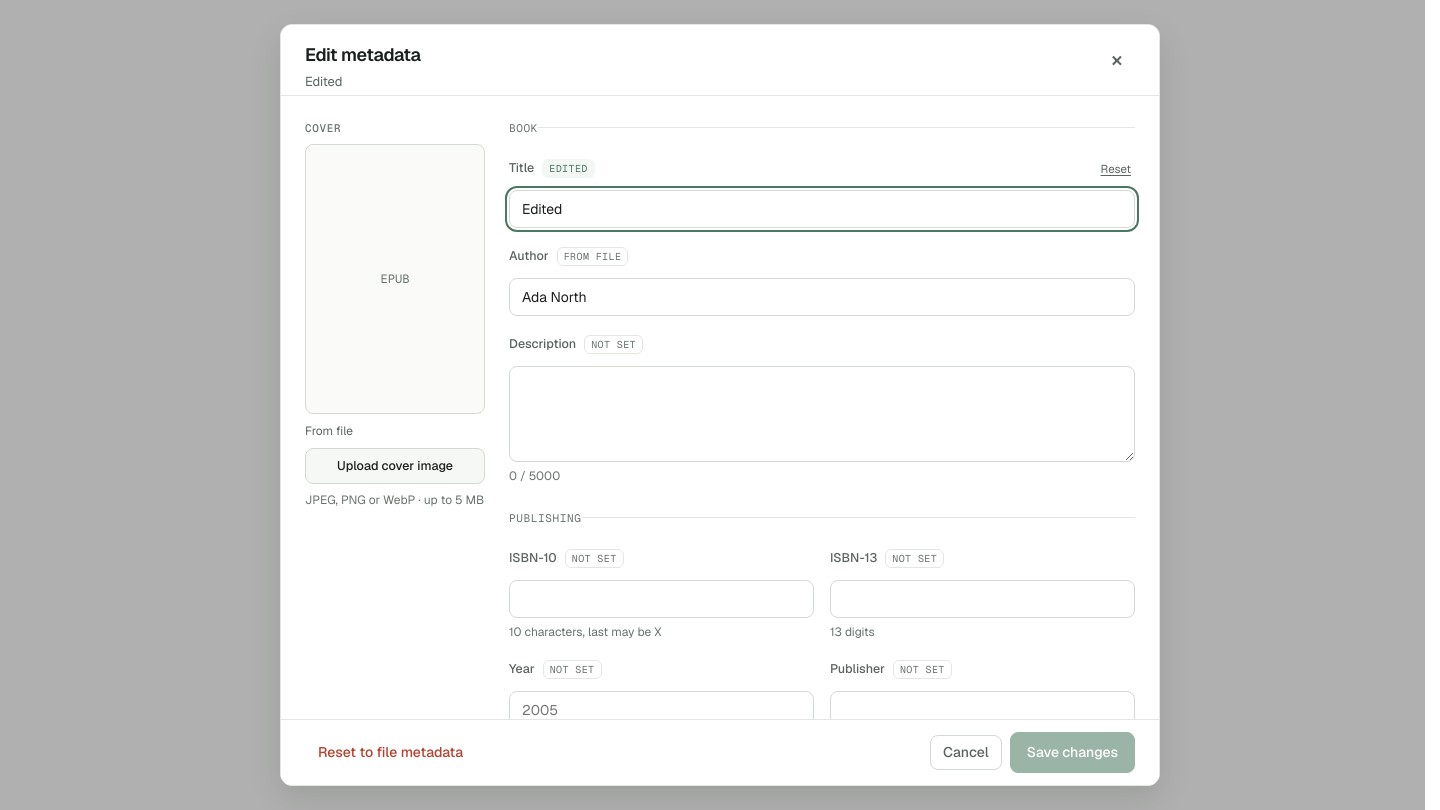
EditMetadataDialog › resets everything after confirmation
The width and height of the screenshot is (1440, 810).
Click the button "Reset to file metadata".
click(391, 752)  # box [305, 735, 476, 770]
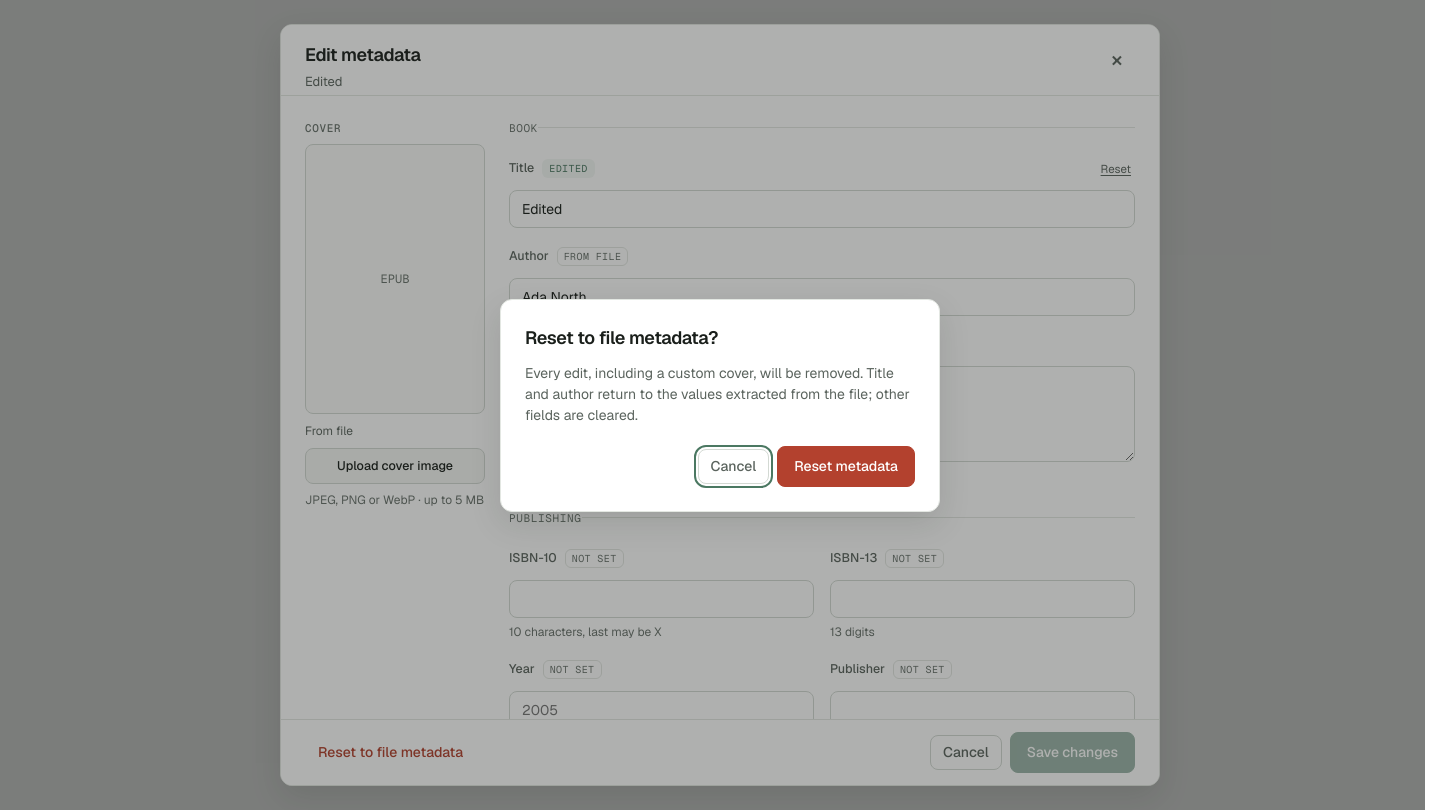
Result: the dialog "Reset to file metadata?" is shown at [500, 298, 940, 512]
Click the button "Reset metadata".
click(846, 466)  # box [777, 446, 915, 486]
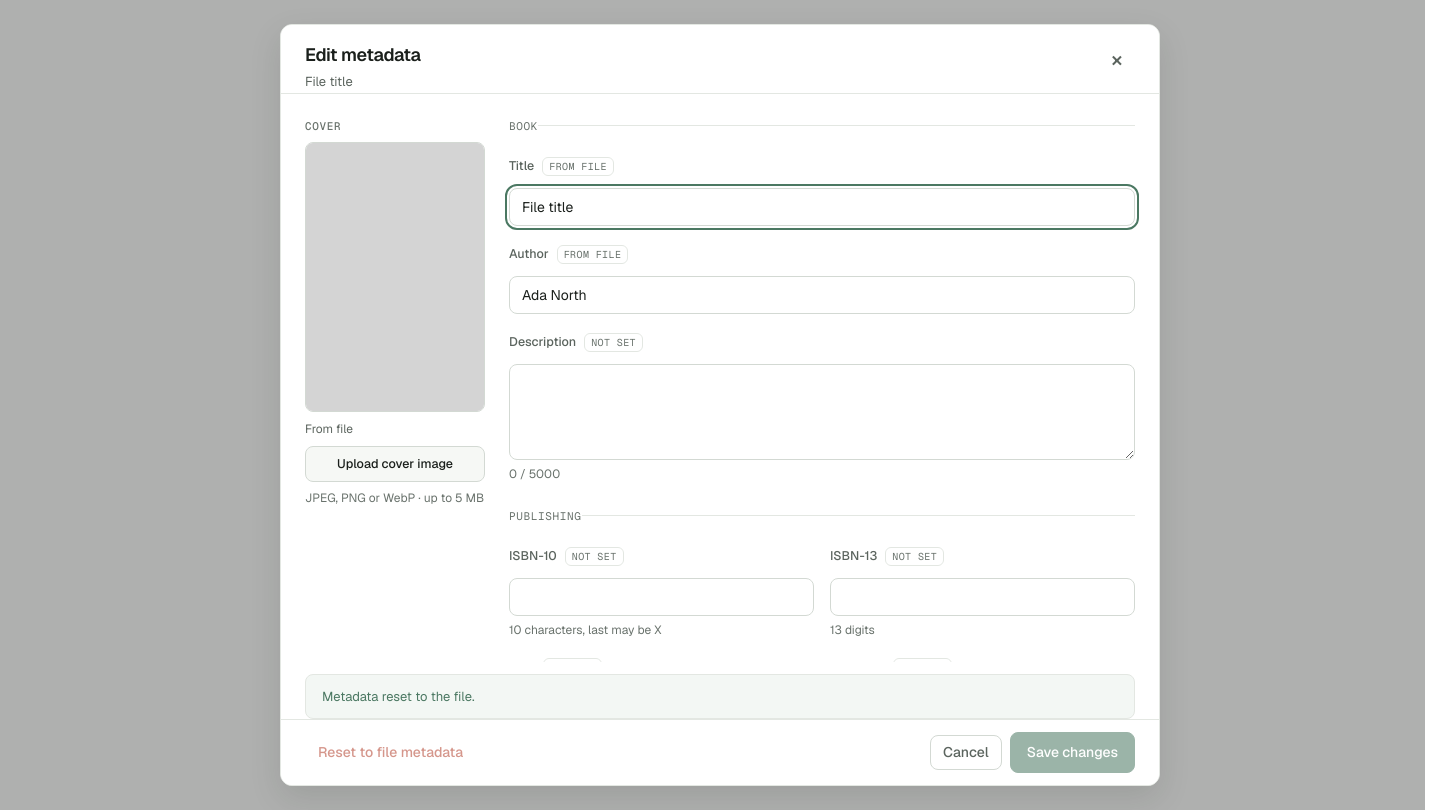
Result: the text "Metadata reset to the file." is shown at [305, 674, 1135, 719]
Result: the field labelled "Title" holds "File title" at [509, 188, 1135, 226]
